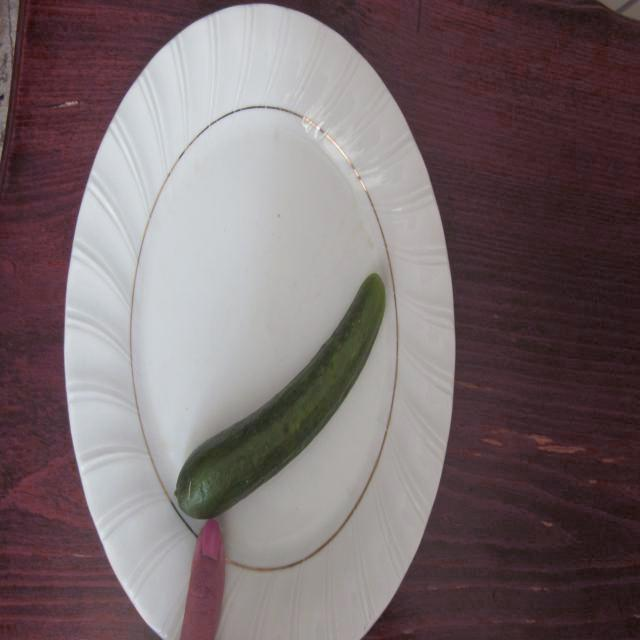Cucumber: (172, 270, 388, 517)
Finger: (184, 519, 230, 639)
